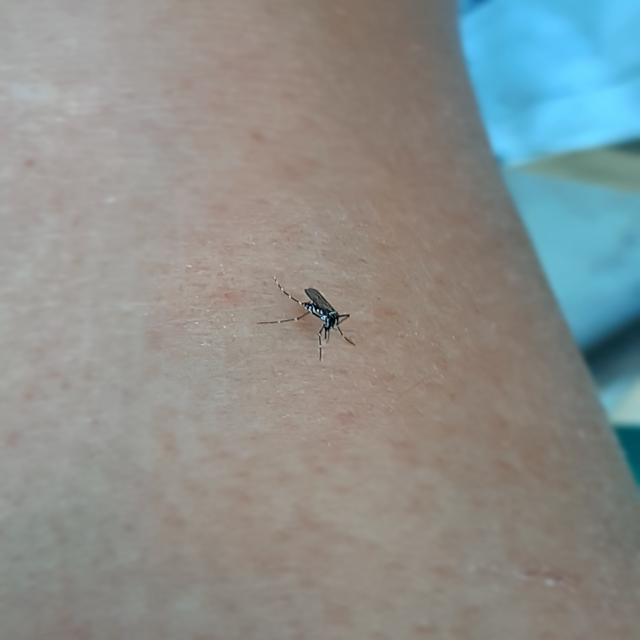albopictus: (257, 272, 360, 358)
